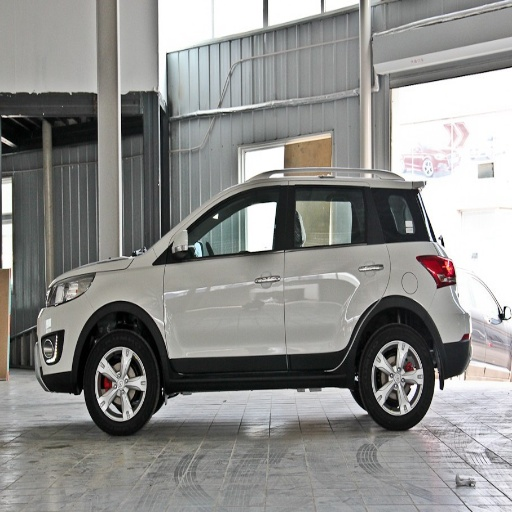back_bumper: (427, 288, 471, 366)
back_left_door: (284, 181, 389, 366)
front_left_door: (163, 182, 288, 371)
